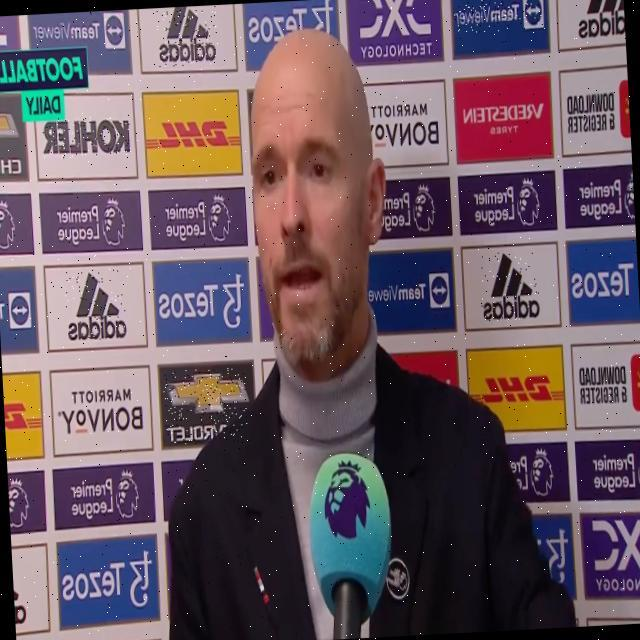Adidas: (64, 268, 127, 343), (479, 251, 541, 322), (157, 5, 219, 67)
Chevrolet: (163, 367, 250, 445)
Kohler: (42, 115, 131, 159)
TeamViewer: (32, 13, 124, 53), (453, 0, 545, 33)
